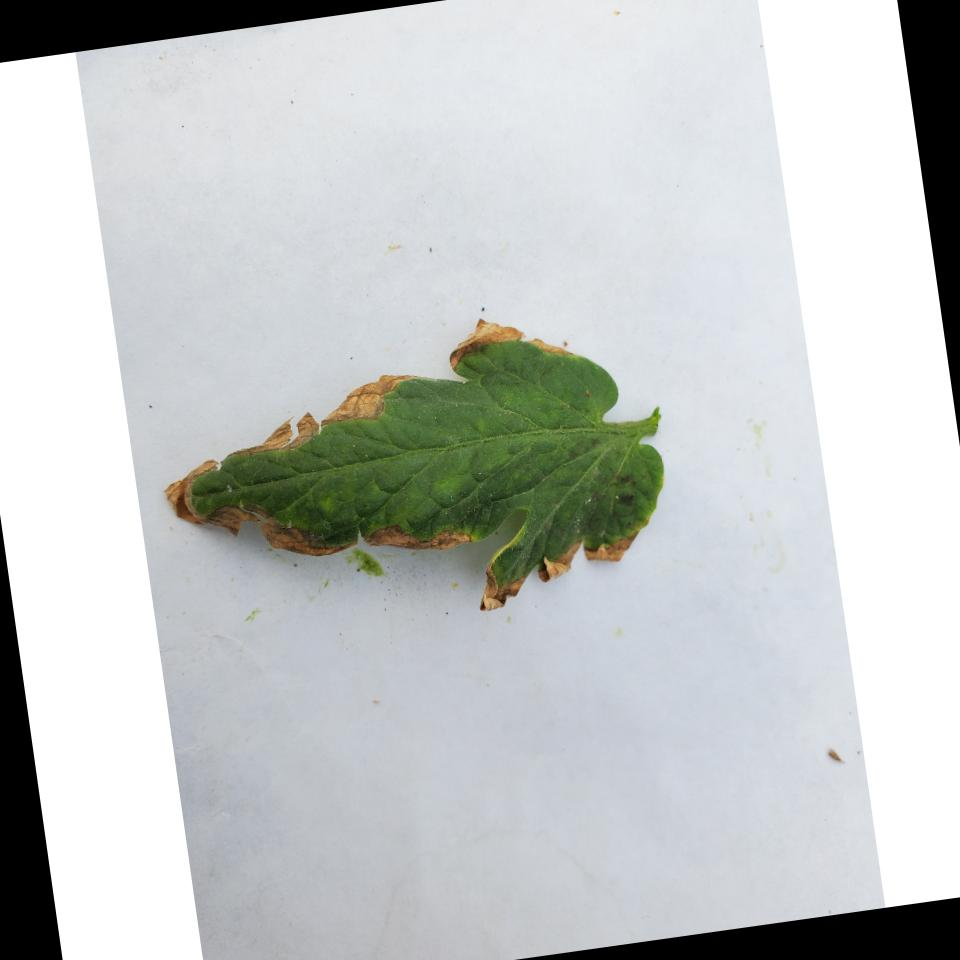tomato_bacterial_blight: (156, 297, 698, 658)
